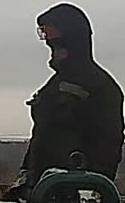gloves: (2, 164, 32, 197)
helmet: (34, 19, 65, 43)
vest: (20, 65, 124, 194)
